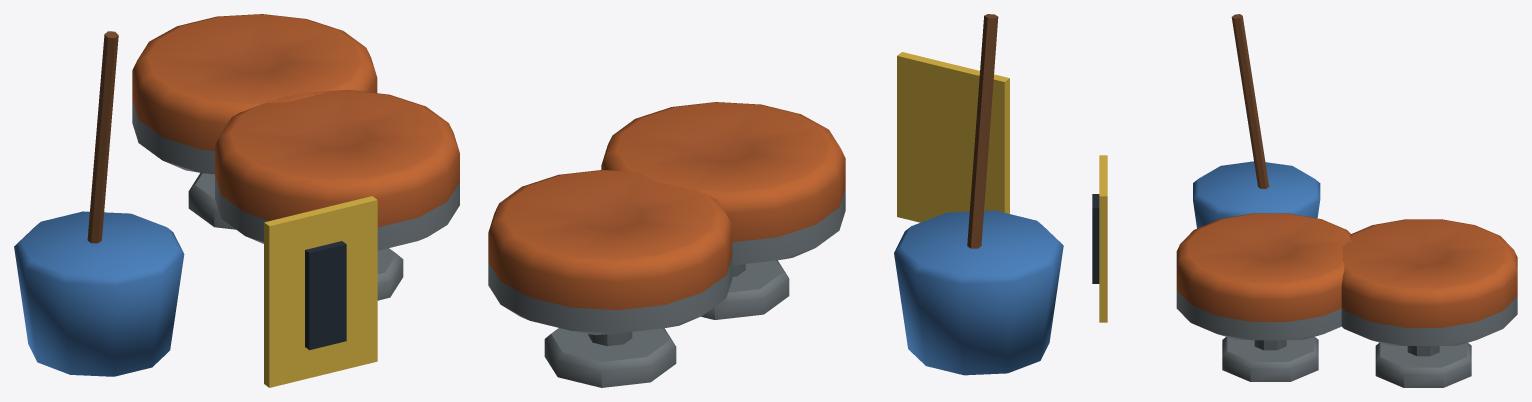
File: decor_6.fbx
3 views of the same model, side by side, from view 1: azimuth 30°, elevation 25°; view 2: azimuth 150°, elevation 25°; view 3: azimuth 270°, elevation 25° (orthographic). The views are drawn at different scales.
Parts seen in each view (by area): view 1: decor_6; view 2: decor_6; view 3: decor_6.
Part boxes in pixels (x1=…): decor_6: x1=14, y1=14, x2=459, y2=387; decor_6: x1=488, y1=14, x2=1063, y2=387; decor_6: x1=1092, y1=14, x2=1517, y2=387.
Bounding box in the file's own units: 1.43 × 1.01 × 1.53.
